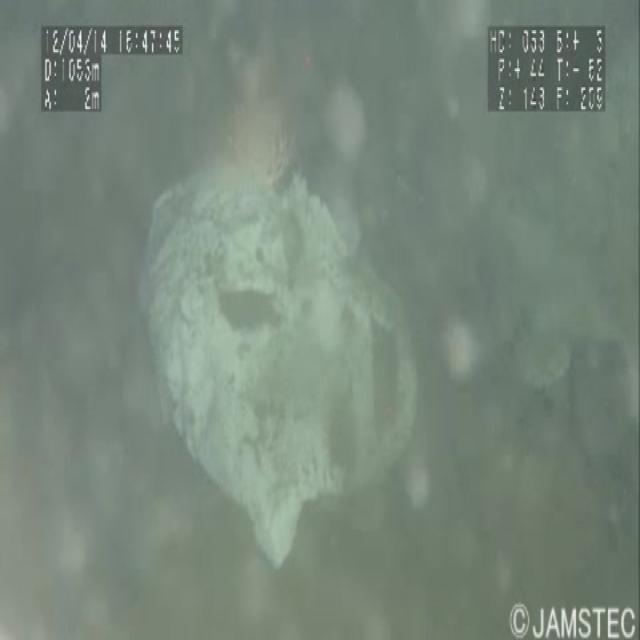Plastic: (134, 127, 423, 567)
